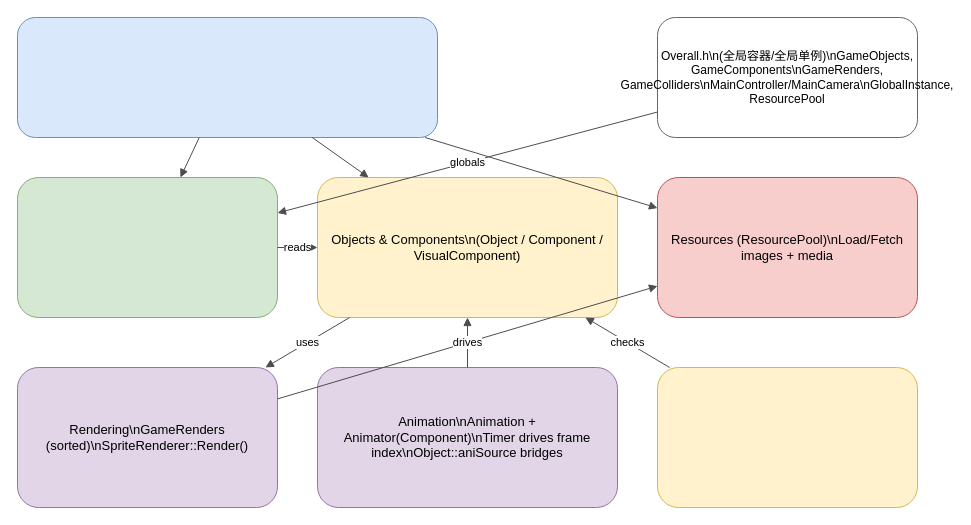
Some shapes in this 971 by 525 pixel diagram are drawn without their labels. The box of each missing label's shape, as (x1, y1, x2, y2) in pixels:
Collision\nGameColliders (global set)\nBoxCollider holds contacts: (656, 366, 918, 508)
Main Loop\nInput() / Update() / Render()\n+ Info() (debug)\n+ Pause/Continue: (16, 176, 278, 318)
PVZ (参考项目) 总览\n\n入口: game.cpp\n全局容器: Overall.h\n工厂: GameStatics\n资源: Resources: (16, 16, 438, 138)
